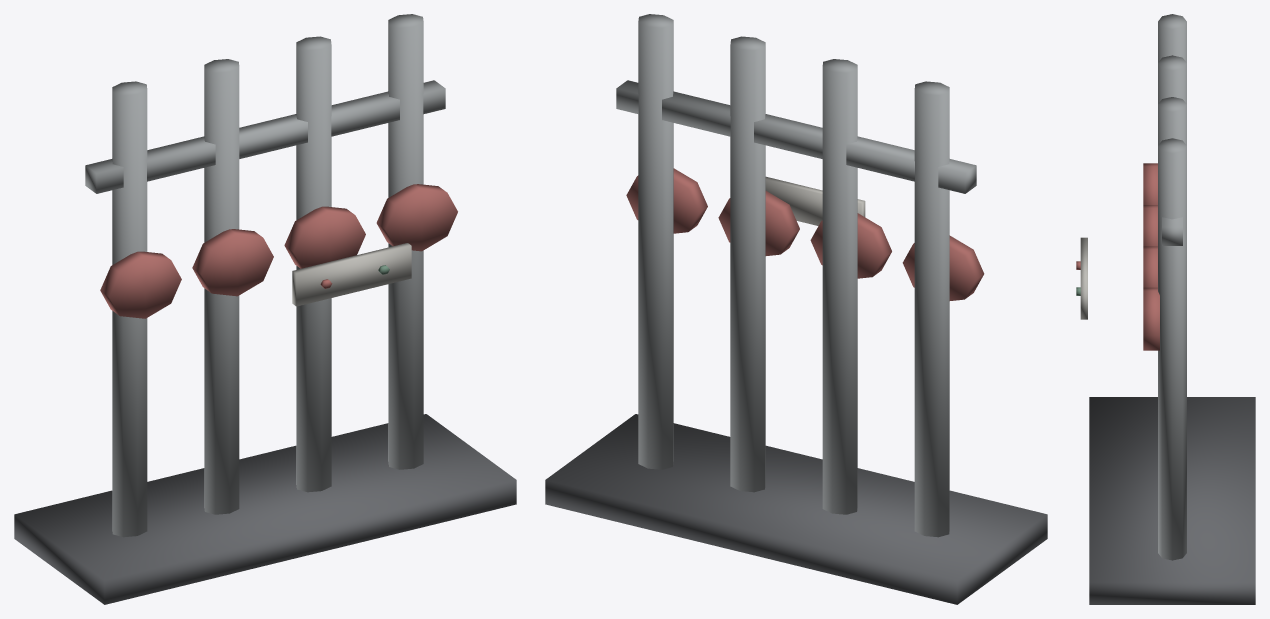
Rendered from pipe_valve_station__wide.glb.
The picture shows the model from 3 angles, left to right: view 1: azimuth 30°, elevation 25°; view 2: azimuth 150°, elevation 25°; view 3: azimuth 270°, elevation 25°; orthographic projection. The views are drawn at different scales.
Parts seen in each view (by area): view 1: world; view 2: world; view 3: world.
Part boxes in pixels (x1,y1,x2,y2): world: [14, 14, 516, 604]; world: [545, 14, 1047, 604]; world: [1076, 14, 1255, 604].
Size of the model in its own units: 1.05 by 1.14 by 0.431.
